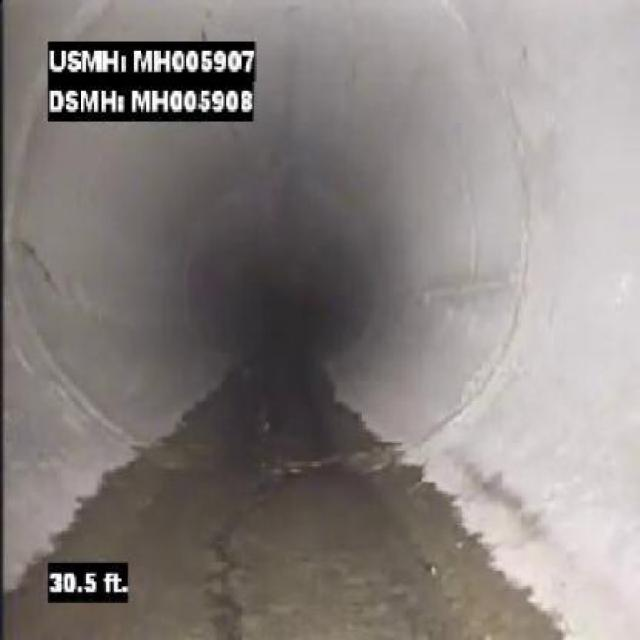Crack: (197, 516, 260, 638)
